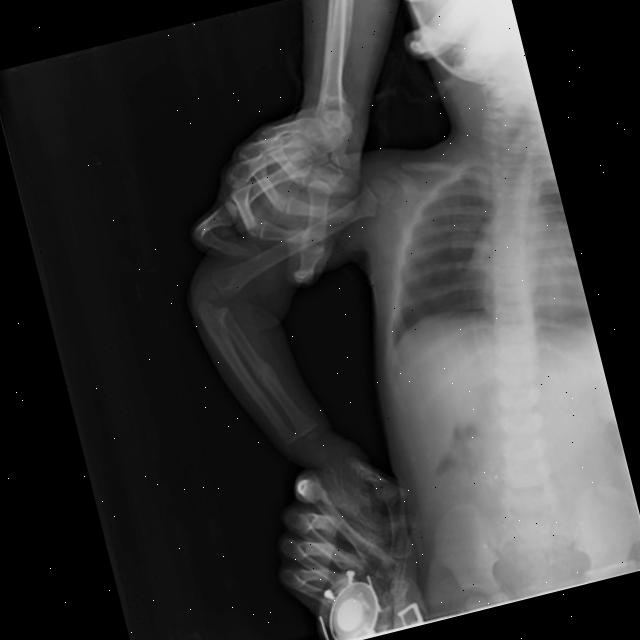Fracture: (250, 357, 280, 392)
